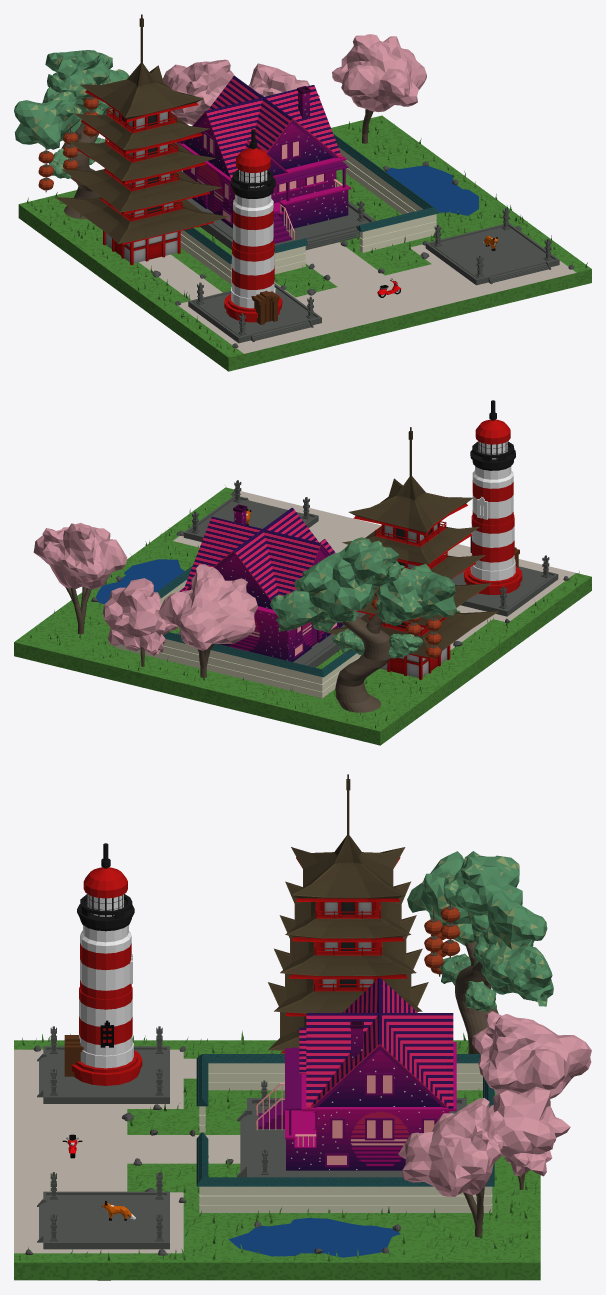
3 views of the same model, one above another, from view 1: azimuth 30°, elevation 25°; view 2: azimuth 150°, elevation 25°; view 3: azimuth 270°, elevation 25° (orthographic). The views are drawn at different scales.
Visible parts, largest first — view 1: Cube.005, Cube.156, OBJRANDOM_LIGHTHOUSE; view 2: Cube.005, Cube.156, OBJRANDOM_LIGHTHOUSE; view 3: Cube.005, Cube.156, OBJRANDOM_LIGHTHOUSE.
Part boxes in pixels (<box>): Cube.005: <box>14,14,591,371</box>; Cube.156: <box>177,76,350,243</box>; OBJRANDOM_LIGHTHOUSE: <box>224,129,282,324</box>; Cube.005: <box>14,427,591,745</box>; Cube.156: <box>179,504,343,661</box>; OBJRANDOM_LIGHTHOUSE: <box>464,400,522,594</box>; Cube.005: <box>14,774,591,1280</box>; Cube.156: <box>256,978,456,1170</box>; OBJRANDOM_LIGHTHOUSE: <box>64,843,142,1085</box>.
Bounding box in the file's own units: 4528 × 2663 × 4389.
Materials: 41 (7 with a texture image).
